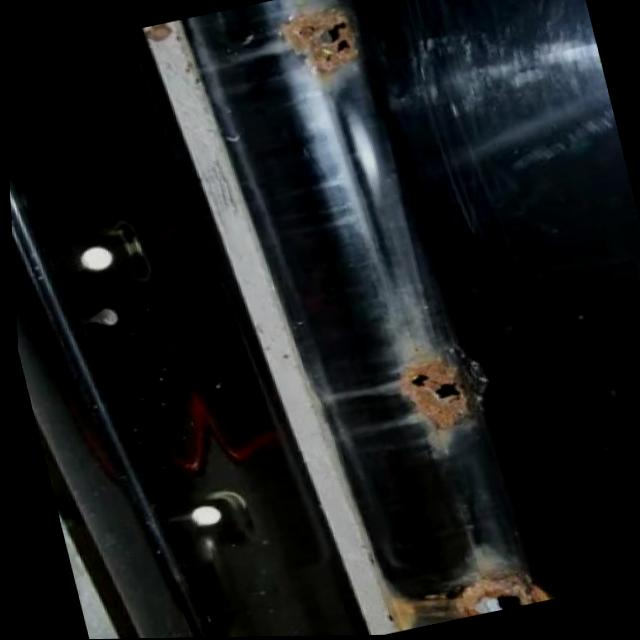Rust: (394, 340, 489, 431), (275, 1, 361, 82), (445, 564, 554, 621), (375, 577, 415, 632)
